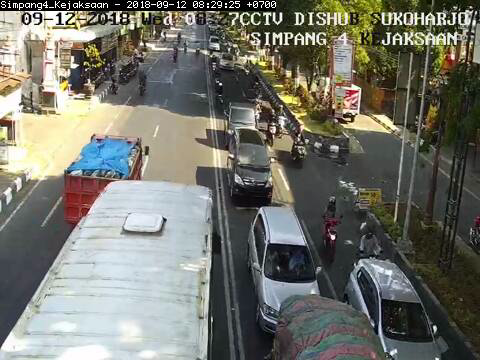motor: (322, 194, 340, 261), (291, 127, 306, 169), (266, 110, 278, 146), (276, 103, 288, 134)
